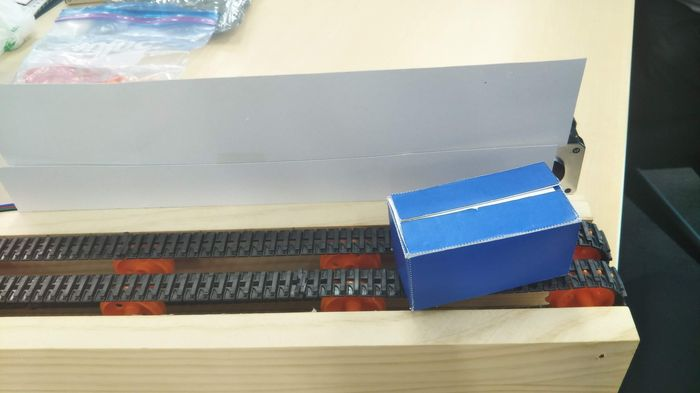box3: (383, 160, 582, 313)
